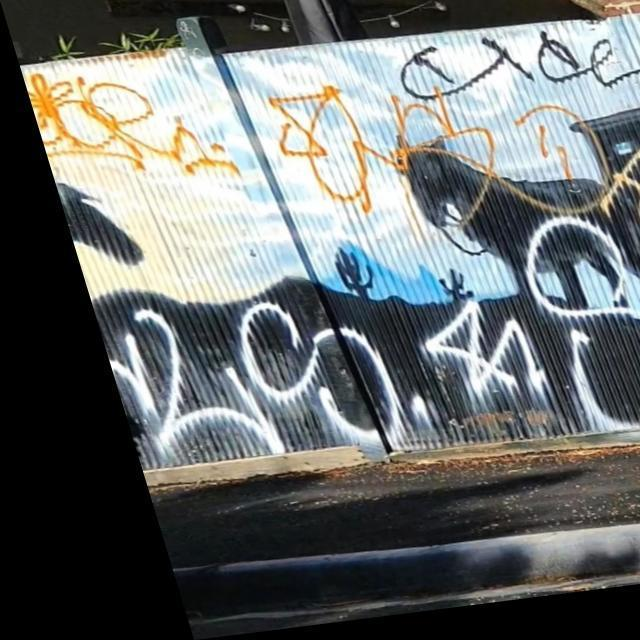-: (72, 230, 640, 504), (253, 50, 640, 321), (363, 16, 640, 142), (16, 47, 232, 202)
